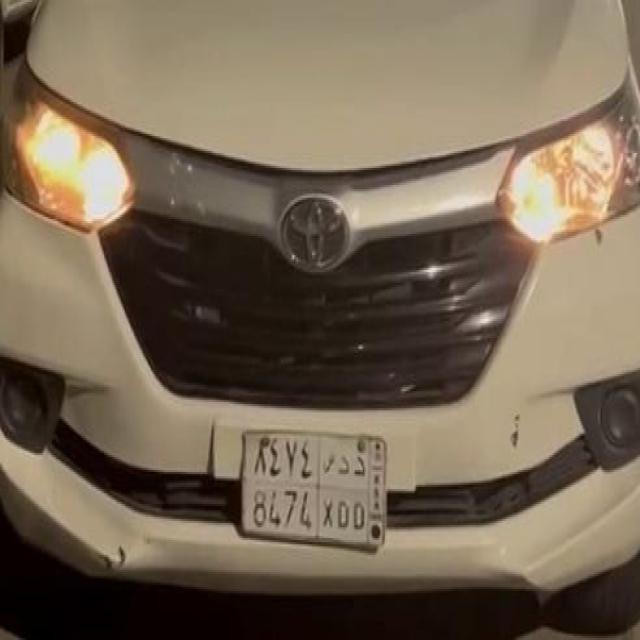Car-plate: (225, 416, 399, 567)
